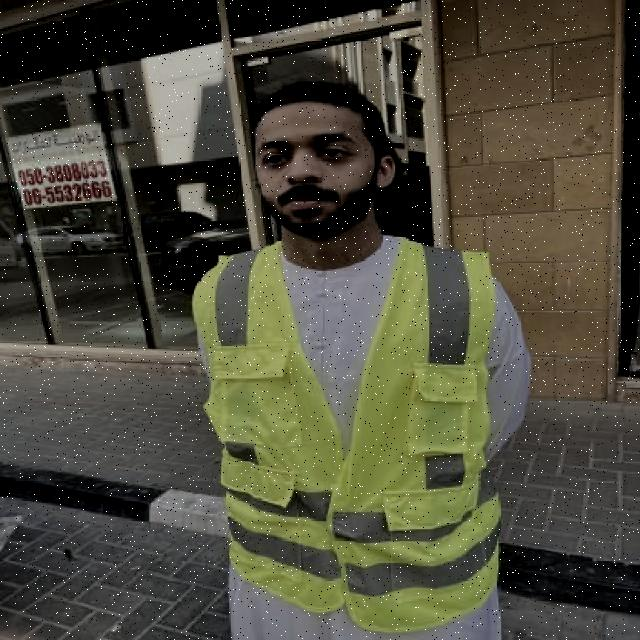Mask: (204, 252, 506, 620)
